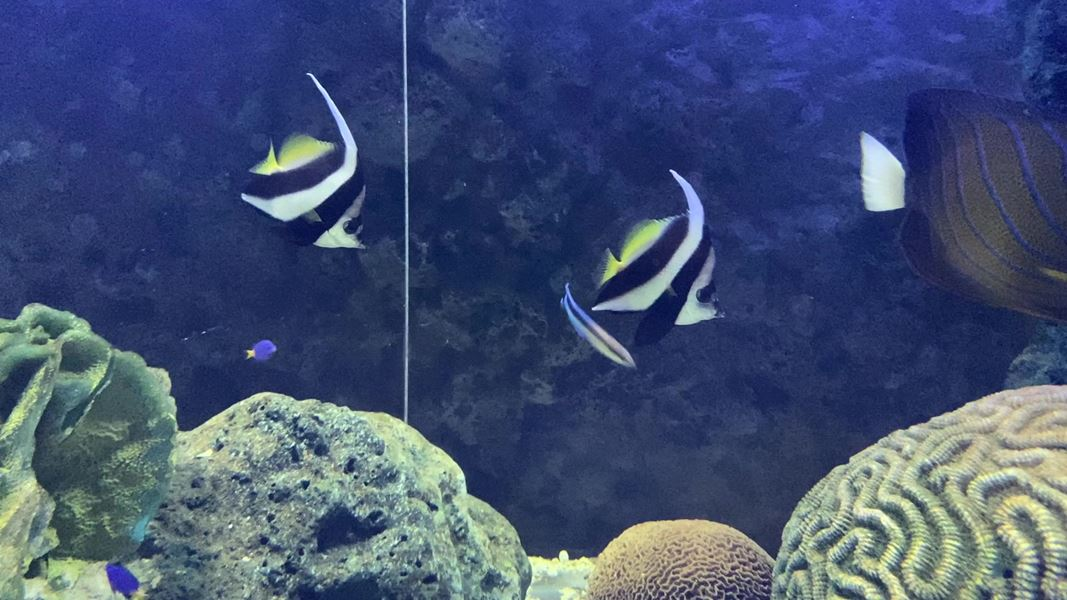Bluesteak cleaner wrasse: (547, 275, 641, 379)
